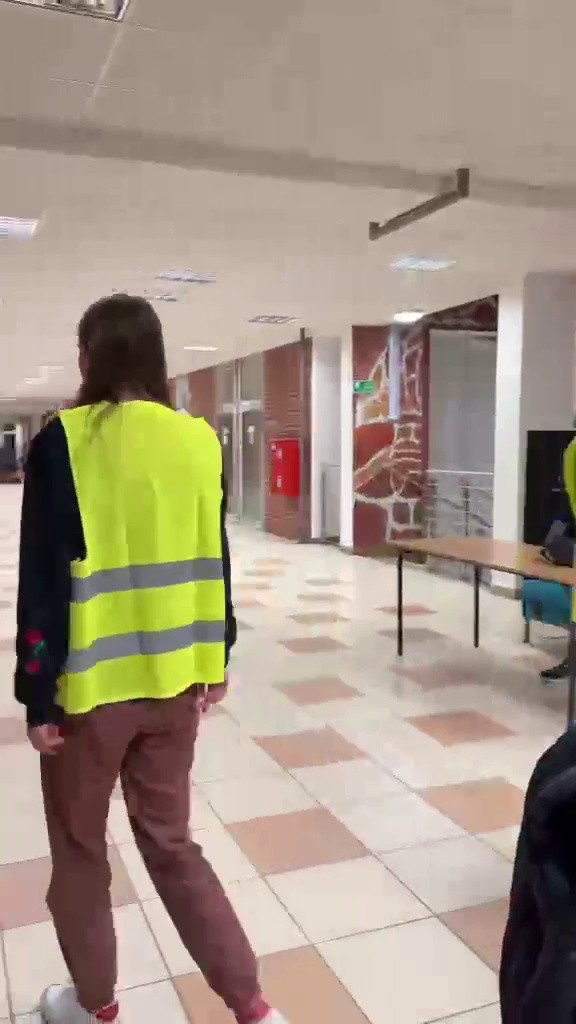vest: (29, 286, 283, 1000)
